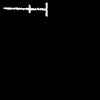double_crochet: (4, 3, 46, 15)
